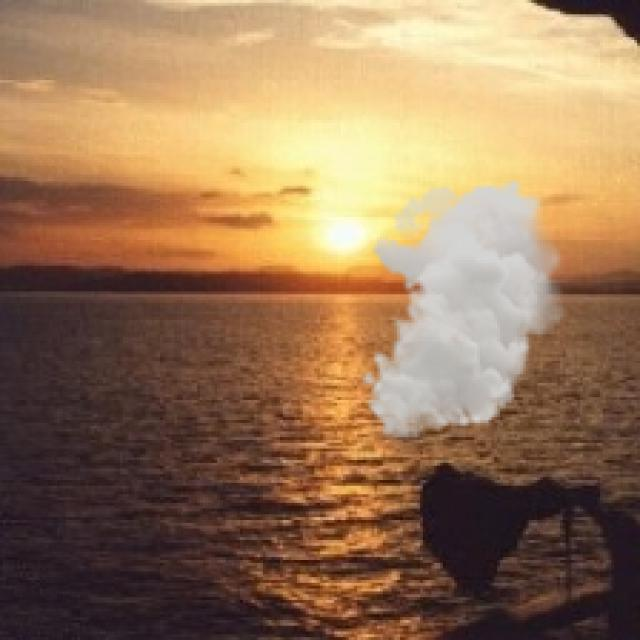smoke: (360, 177, 571, 440)
